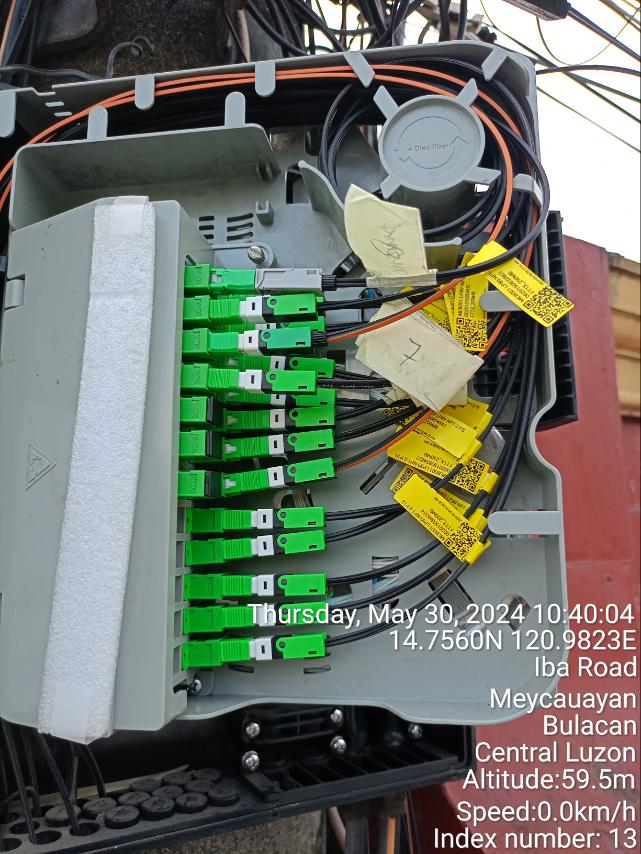no port: (169, 507, 187, 536), (168, 575, 183, 605), (170, 540, 185, 570), (168, 646, 181, 678), (169, 610, 182, 641)
occupied: (225, 458, 338, 499), (210, 324, 328, 362), (211, 291, 324, 328), (228, 427, 336, 463), (210, 267, 339, 297), (226, 374, 335, 409), (226, 349, 337, 383), (223, 632, 332, 666), (221, 601, 329, 635), (207, 367, 320, 396), (220, 572, 329, 602), (222, 531, 328, 561), (229, 285, 329, 315), (224, 407, 338, 433), (223, 506, 329, 531), (227, 316, 326, 340)
vacant: (206, 472, 222, 500), (209, 431, 223, 461), (210, 398, 224, 427)
